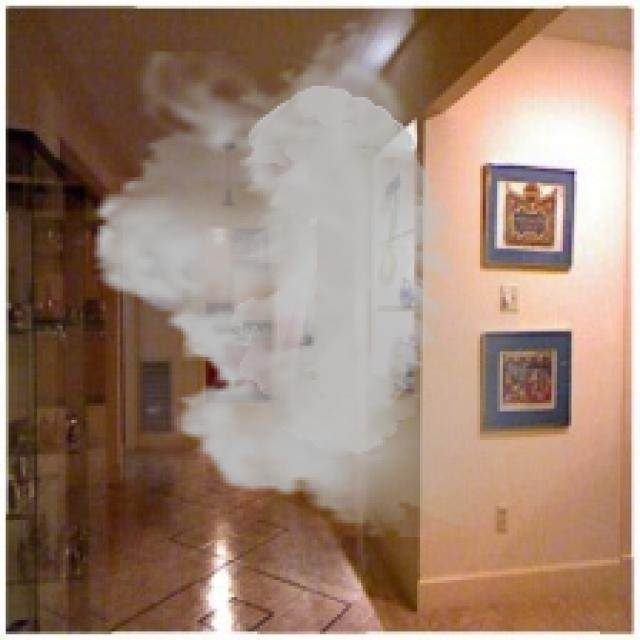Smoke: (71, 17, 603, 537)
